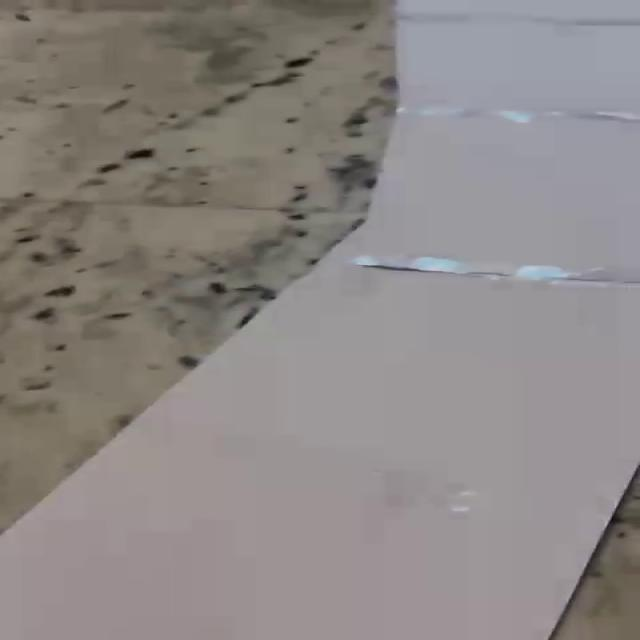road: (0, 0, 640, 640)
